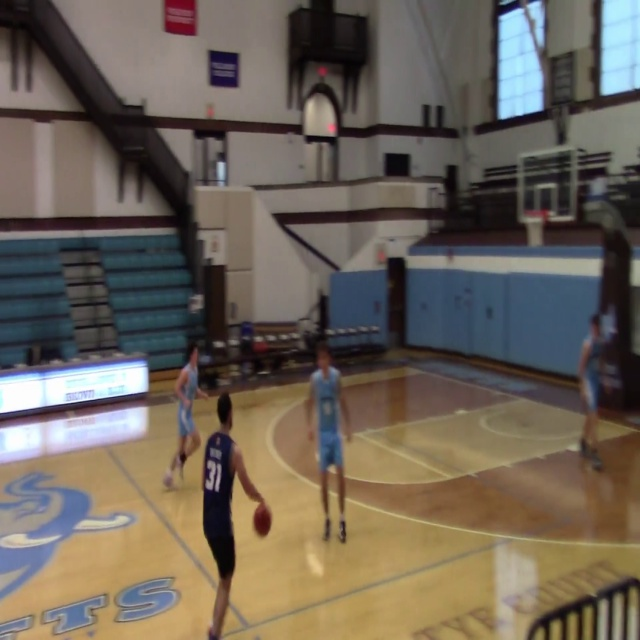Basketball: (253, 503, 272, 537)
